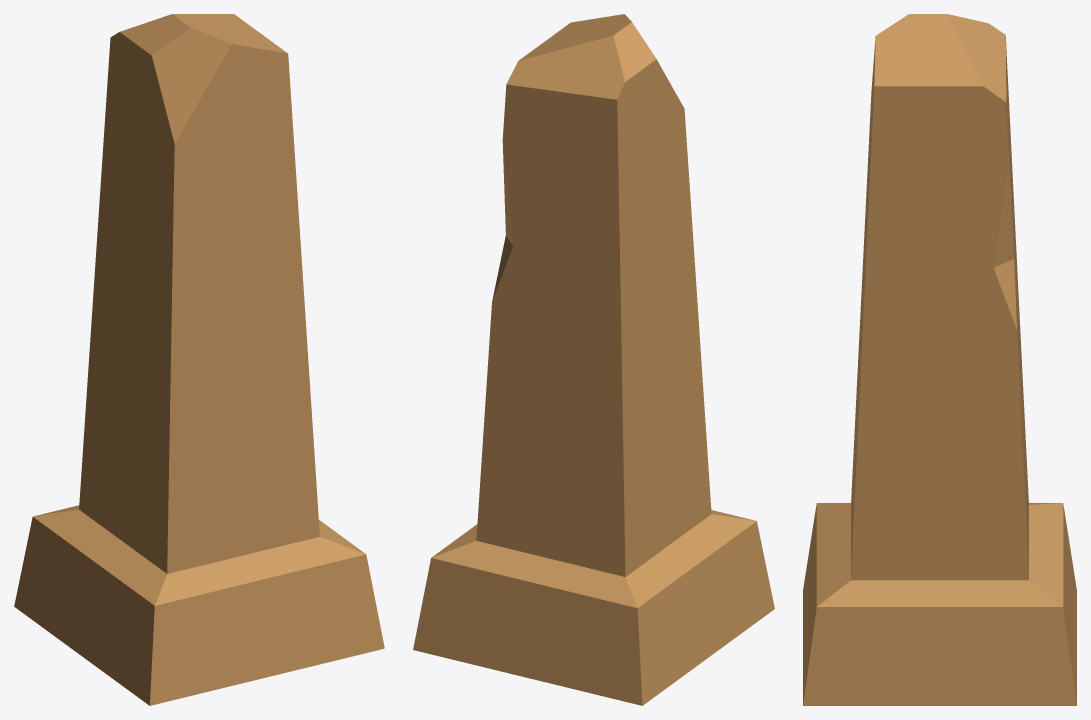
The model's file is egypt-obelisk-old-broken.glb.
3 views of the same model, side by side, from view 1: azimuth 30°, elevation 25°; view 2: azimuth 150°, elevation 25°; view 3: azimuth 270°, elevation 25° (orthographic). The views are drawn at different scales.
Parts seen in each view (by area): view 1: egypt-obelisk-old-broken; view 2: egypt-obelisk-old-broken; view 3: egypt-obelisk-old-broken.
Boxes of the visible parts, left/top/right/bottom form: egypt-obelisk-old-broken: left=14, top=14, right=384, bottom=705; egypt-obelisk-old-broken: left=413, top=14, right=774, bottom=705; egypt-obelisk-old-broken: left=803, top=14, right=1076, bottom=705.
Bounding box in the file's own units: 4 × 10.03 × 4.
Materials: 1 (1 with a texture image).
